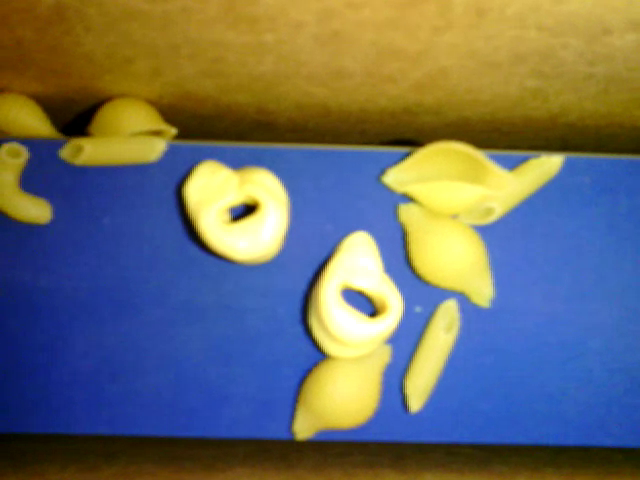elbow: (1, 139, 57, 225)
penne: (397, 294, 462, 416), (464, 154, 563, 228), (60, 136, 168, 164)
shell: (377, 136, 525, 218), (392, 200, 497, 308), (291, 340, 390, 438), (88, 97, 176, 139), (1, 86, 66, 139)
tortellini: (299, 225, 409, 362), (178, 157, 291, 263)
